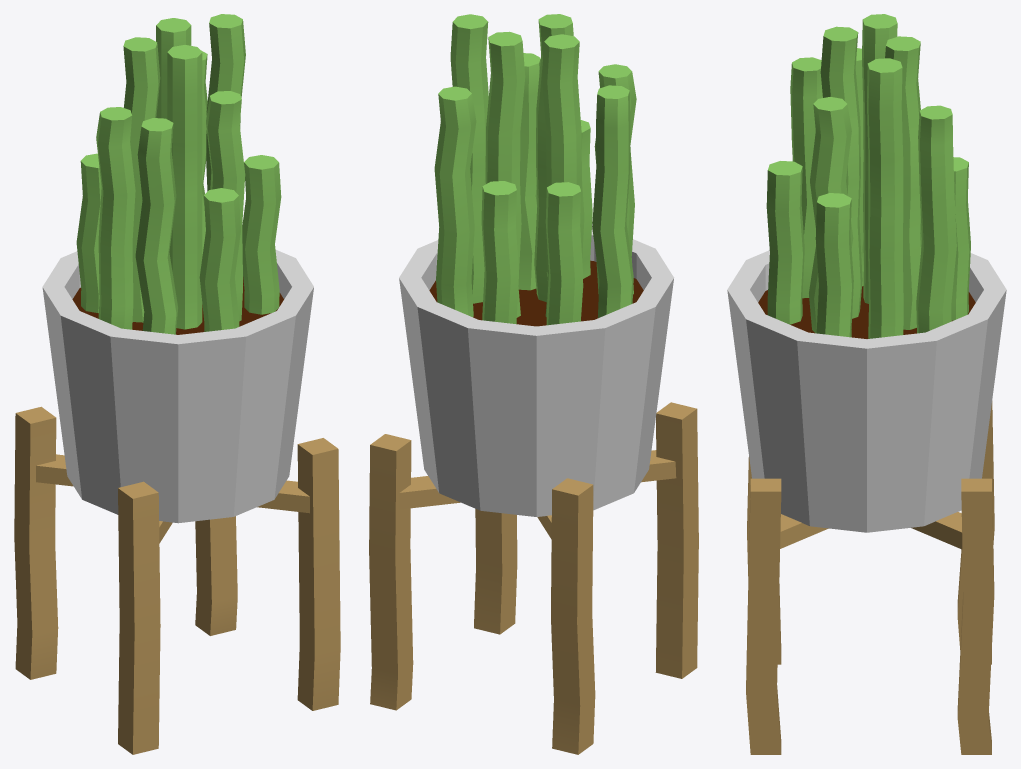
The model's file is Kamerplant3.fbx.
The picture shows the model from 3 angles, left to right: view 1: azimuth 30°, elevation 25°; view 2: azimuth 150°, elevation 25°; view 3: azimuth 270°, elevation 25°; orthographic projection. The views are drawn at different scales.
Visible parts, largest first — view 1: Kamerplant3; view 2: Kamerplant3; view 3: Kamerplant3.
Part boxes in pixels (box(x1,y1,x2,y2)): Kamerplant3: box(14, 14, 340, 754); Kamerplant3: box(369, 14, 698, 754); Kamerplant3: box(727, 14, 1006, 754).
Bounding box in the file's own units: 2.67 × 7.03 × 2.67.
